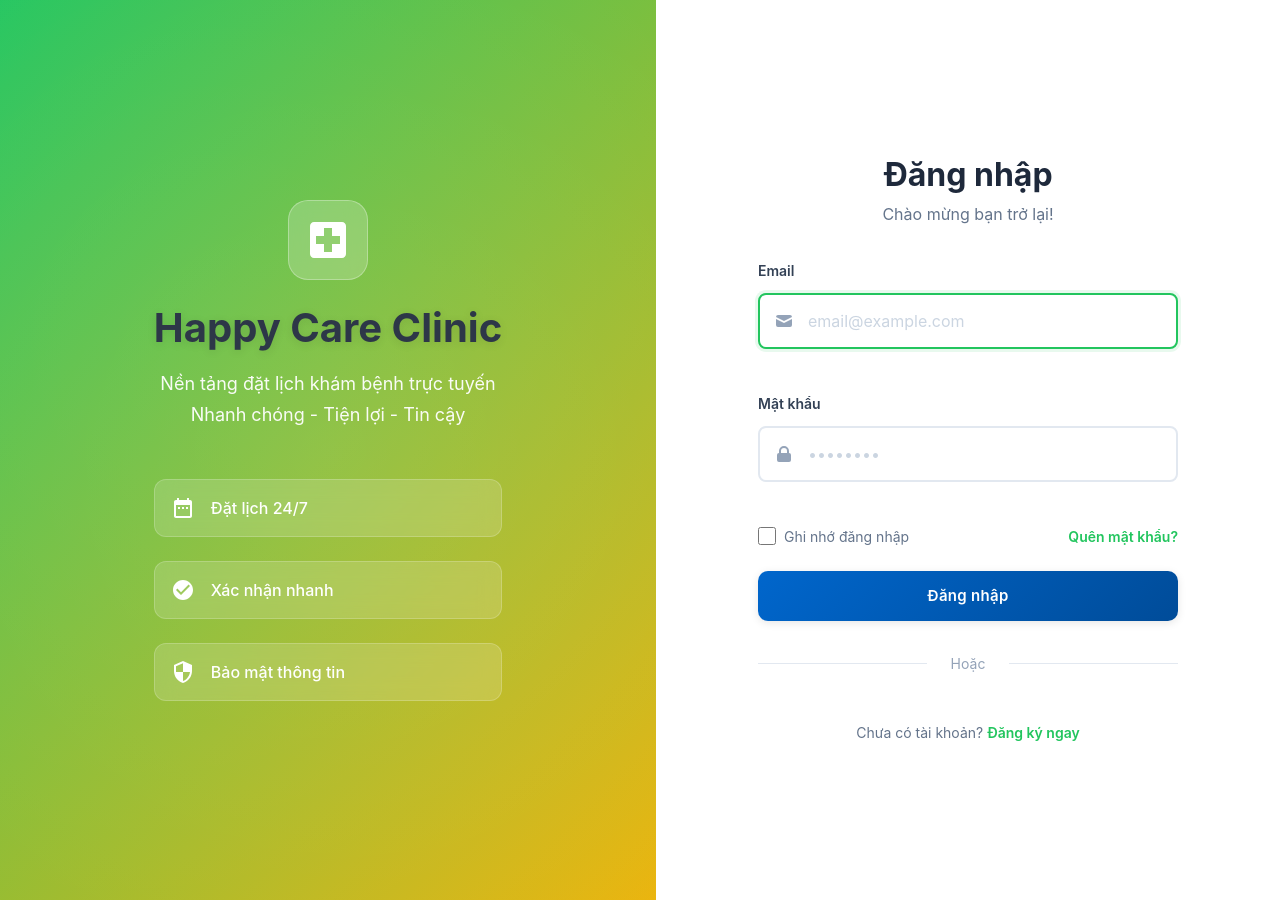
Scenario: Login Page › displays error message on login failure
Type "test@example.com" into the field with placeholder "email@example.com" at coordinates (968, 320), box left=758, top=292, right=1178, bottom=348
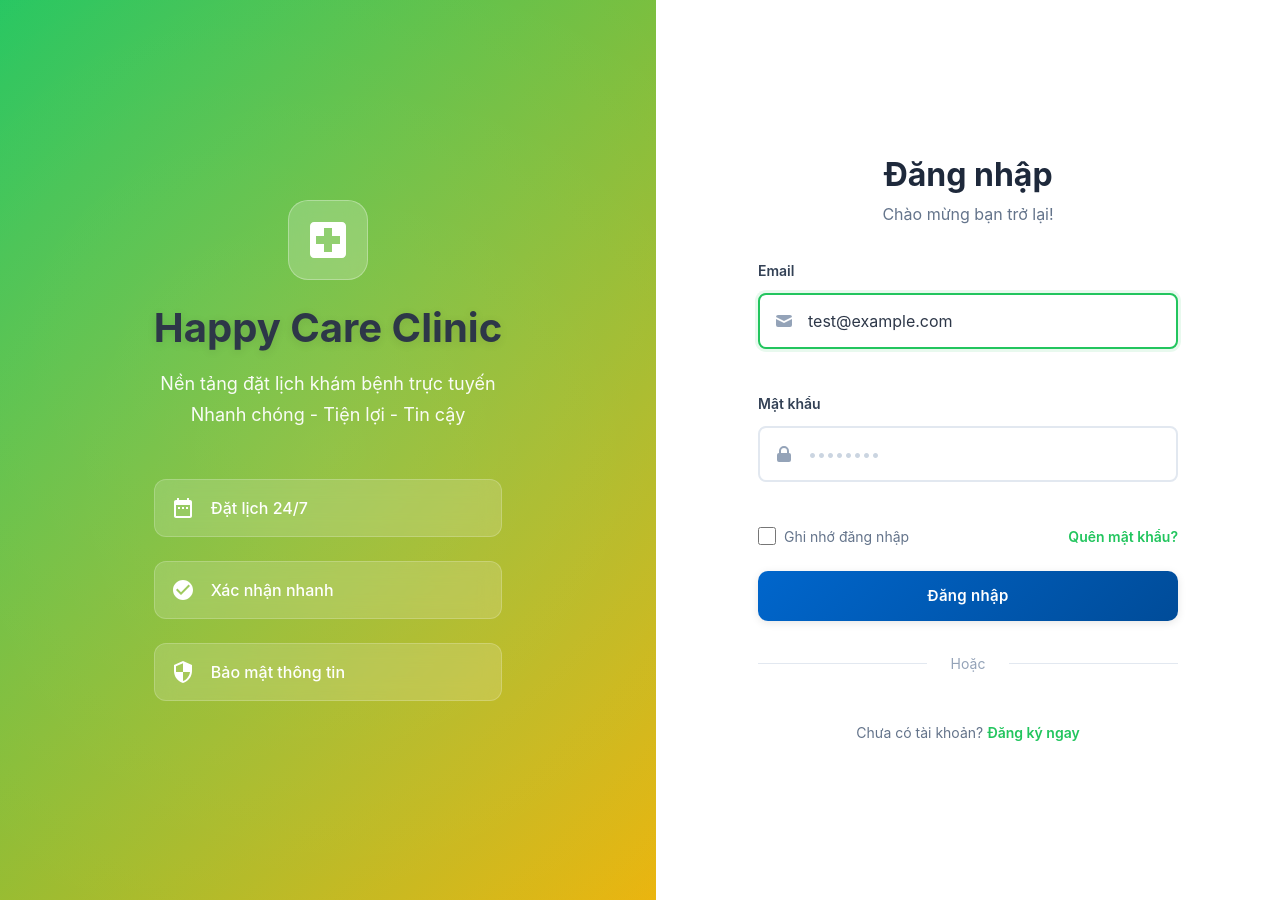
Type "password123" into the password field with placeholder "••••••••" at coordinates (968, 454), box left=758, top=426, right=1178, bottom=482
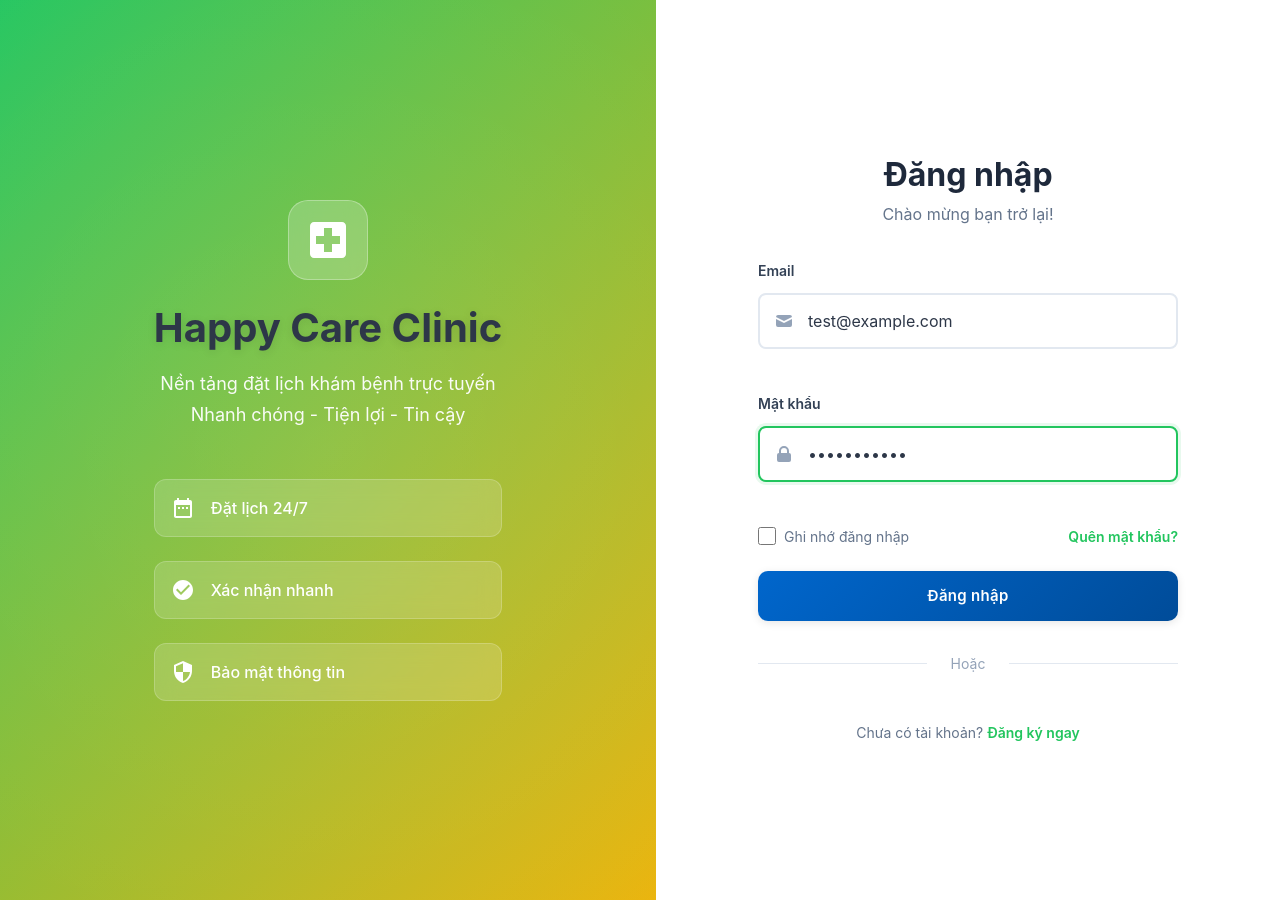
Click the button "Đăng nhập" at coordinates (968, 596), box left=758, top=570, right=1178, bottom=621
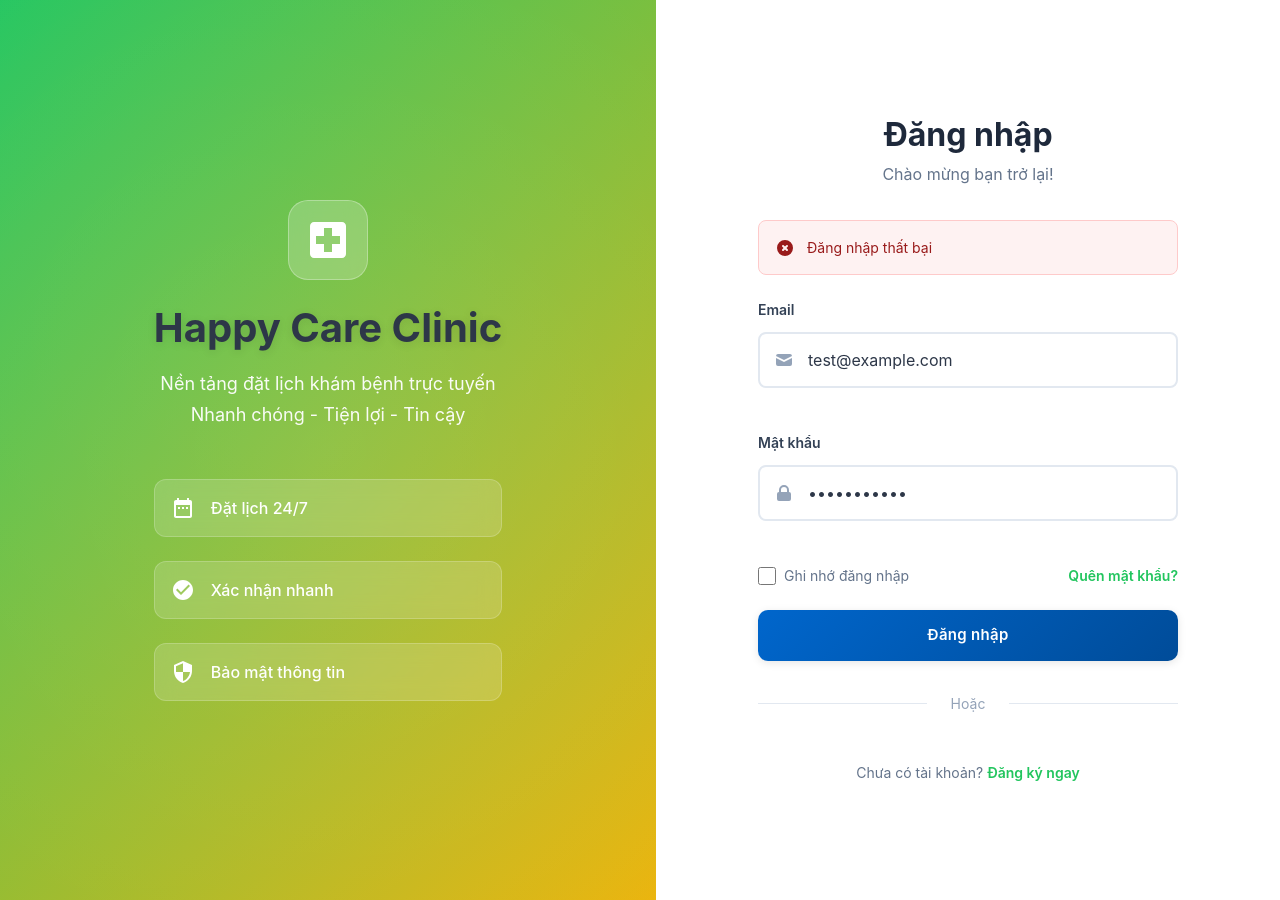
Expected: the text "Đăng nhập thất bại" is shown, left=758, top=220, right=1178, bottom=275
